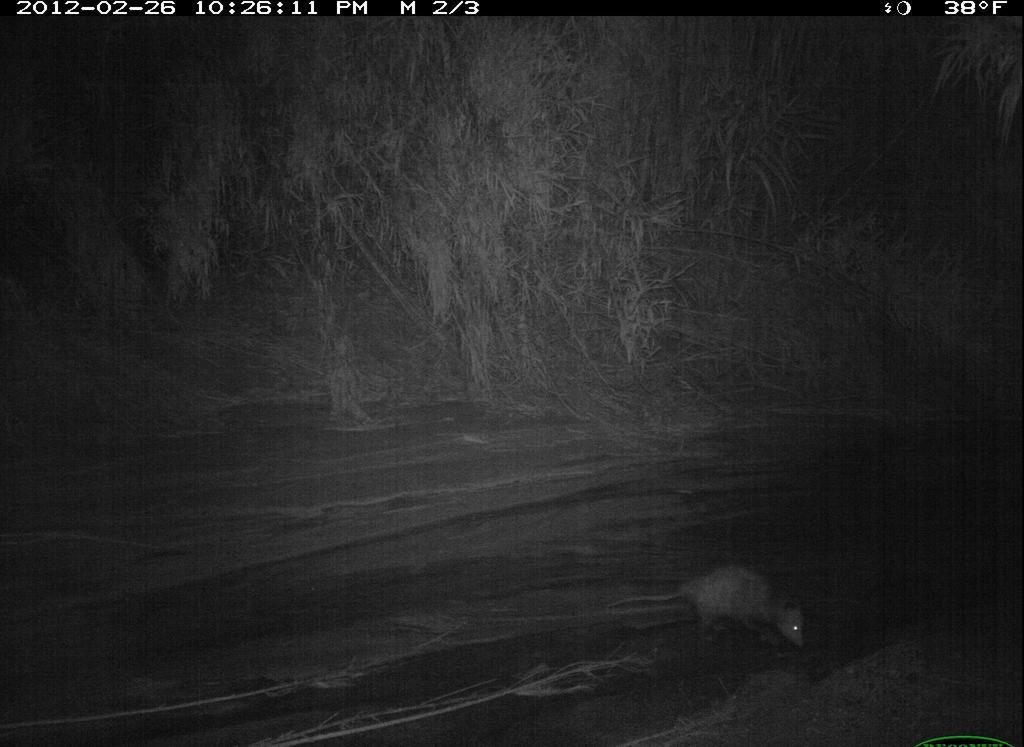opossum: (601, 556, 813, 661)
